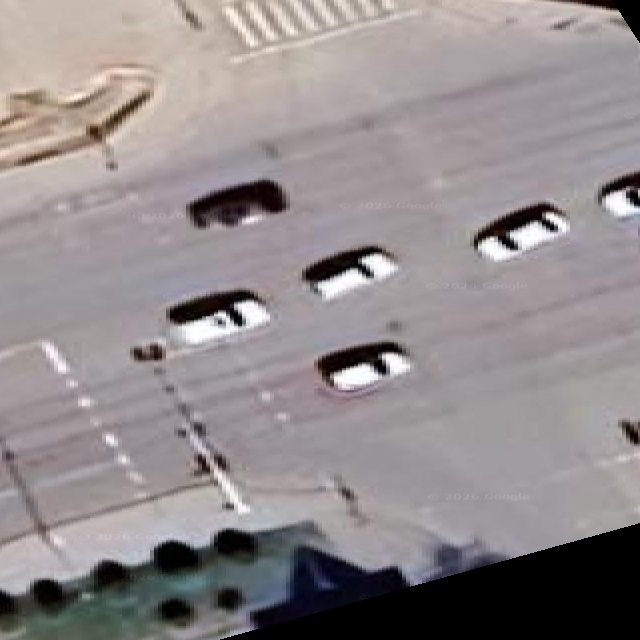car: (168, 289, 270, 346), (473, 203, 568, 260), (303, 246, 397, 299), (187, 180, 286, 227), (316, 342, 409, 392), (597, 172, 639, 218), (131, 339, 164, 360)
